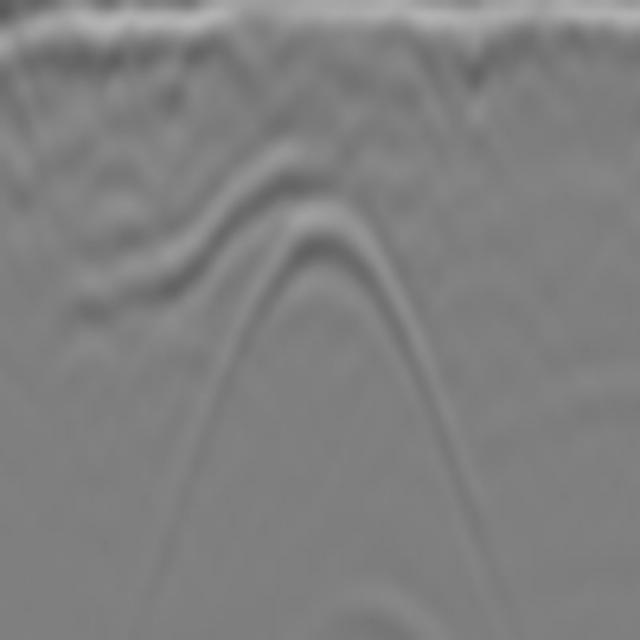hyperbola: (198, 189, 451, 483)
